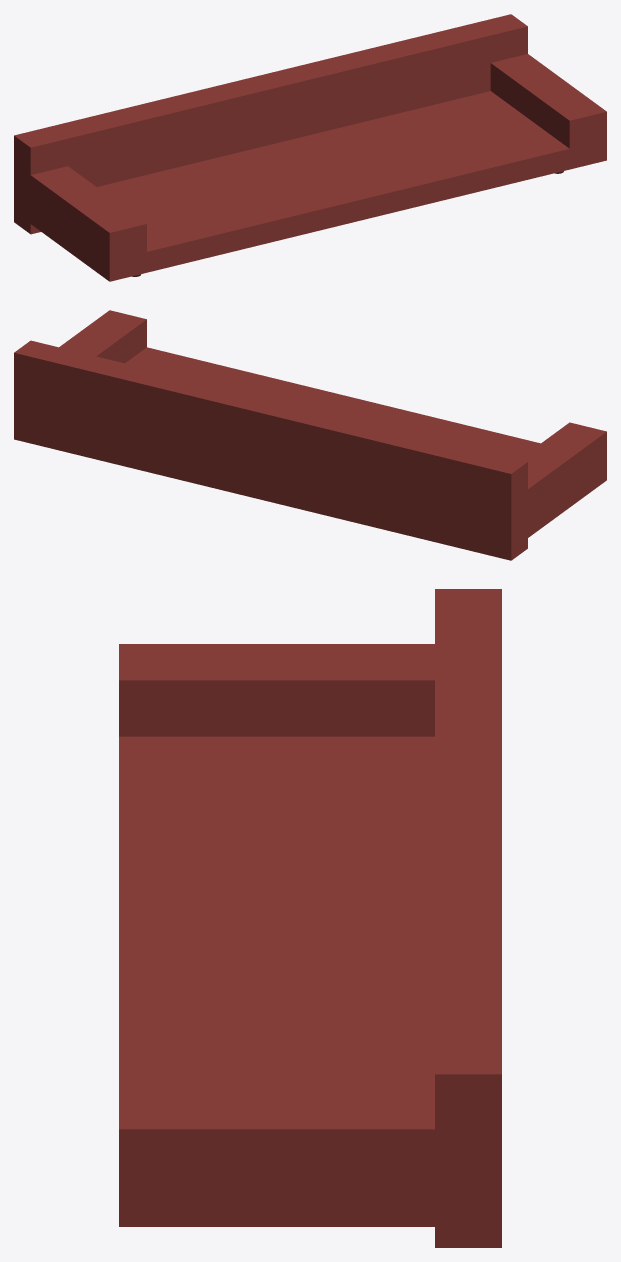
The model's file is sofa_majlis_floor.glb.
The picture shows the model from 3 angles, top to bottom: view 1: azimuth 30°, elevation 25°; view 2: azimuth 150°, elevation 25°; view 3: azimuth 270°, elevation 25°; orthographic projection. The views are drawn at different scales.
Parts seen in each view (by area): view 1: furniture; view 2: furniture; view 3: furniture.
Part boxes in pixels (box(x1,y1,x2,y2)): furniture: box(14, 14, 606, 281); furniture: box(14, 310, 606, 560); furniture: box(119, 589, 501, 1247).
Bounding box in the file's own units: 2.4 × 0.4 × 0.8.
